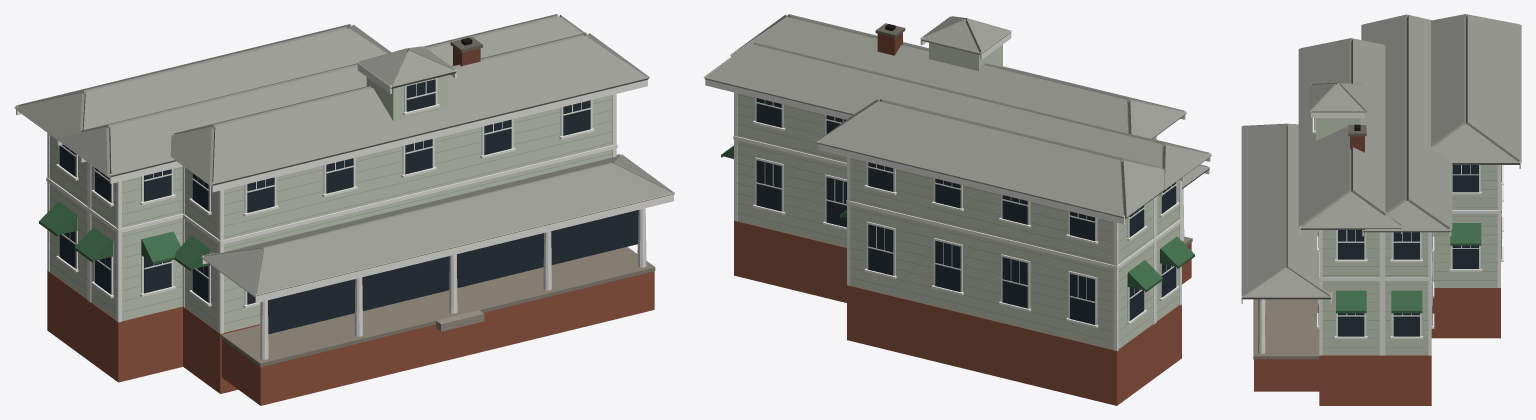
Rendered from frame-foursquare-0001.glb.
3 views of the same model, side by side, from view 1: azimuth 30°, elevation 25°; view 2: azimuth 150°, elevation 25°; view 3: azimuth 270°, elevation 25° (orthographic). The views are drawn at different scales.
Parts seen in each view (by area): view 1: kit-frame-foursquare-0001; view 2: kit-frame-foursquare-0001; view 3: kit-frame-foursquare-0001.
Boxes of the visible parts, box(x1,y1,x2,y2) form: kit-frame-foursquare-0001: box(14, 14, 674, 405); kit-frame-foursquare-0001: box(703, 14, 1211, 405); kit-frame-foursquare-0001: box(1241, 14, 1521, 405).
Size of the model in its own units: 17.59 by 9.59 by 10.1.
